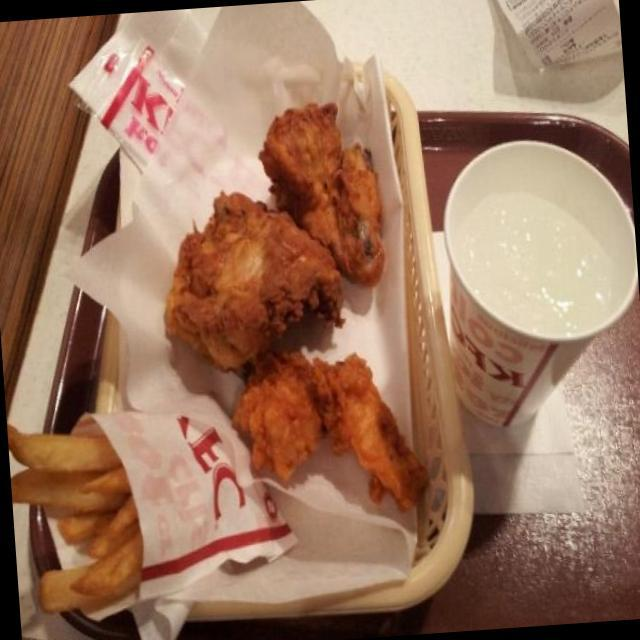French Fries: (6, 407, 146, 622)
